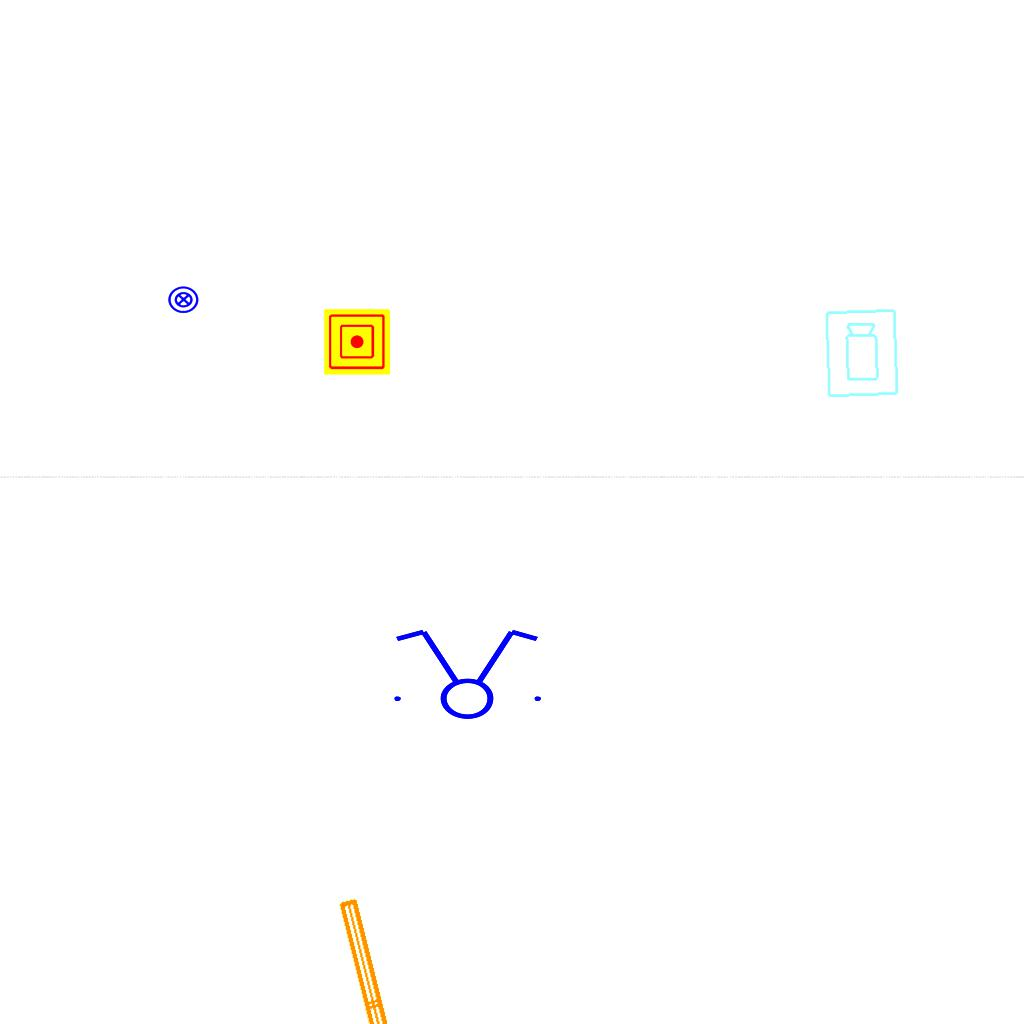Ambulanz_Pendelleuchte_LED: (331, 885, 480, 1024)
KFO_Kamera_mit_Festobjektiv: (822, 306, 903, 401)
NAM-Nichtautomatischer_Melder: (324, 309, 390, 375)
Serienschalter: (382, 625, 550, 721)
Taster_beleuchtet: (167, 283, 200, 316)
